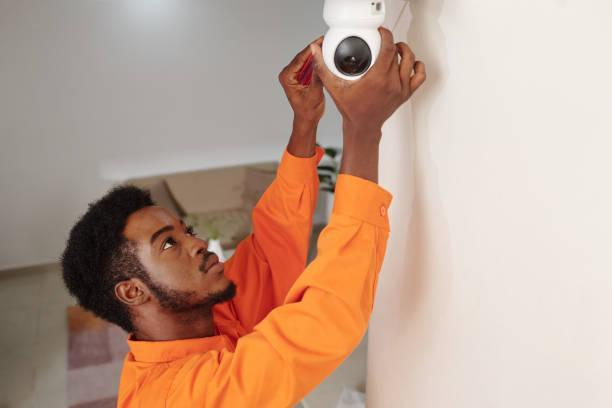camera: (287, 0, 419, 85)
